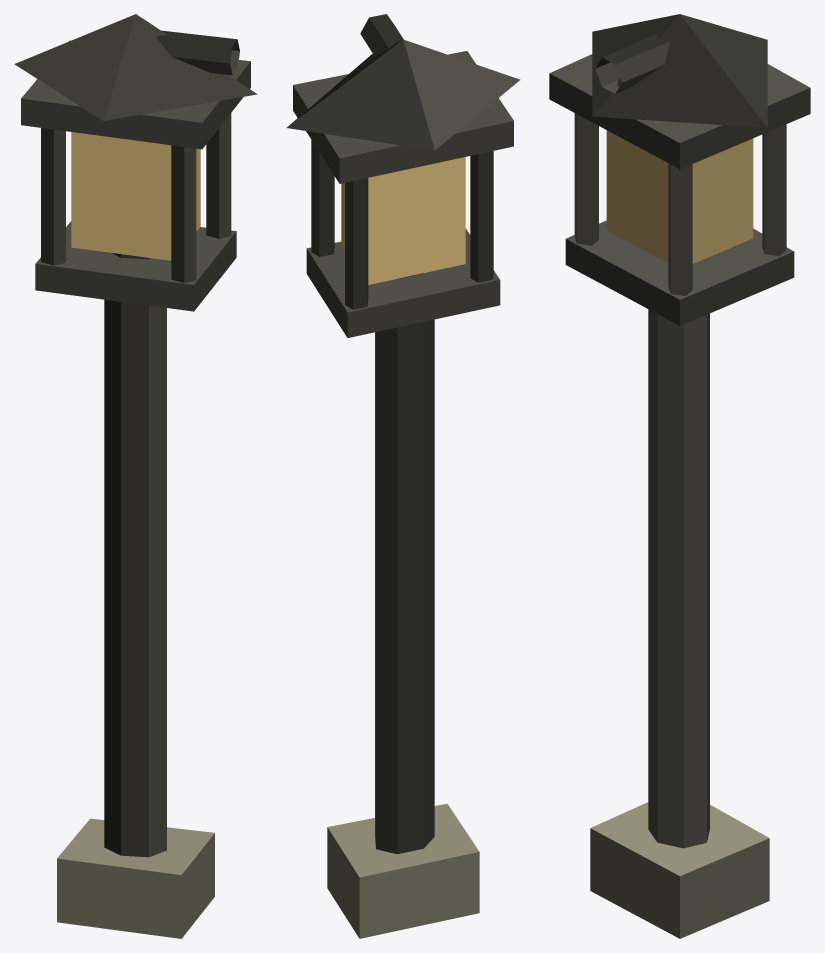
3 views of the same model, side by side, from view 1: azimuth 30°, elevation 25°; view 2: azimuth 150°, elevation 25°; view 3: azimuth 270°, elevation 25° (orthographic). The views are drawn at different scales.
Visible parts, largest first — view 1: dc2c024b5a84f2308b48a30a74c9cf8e7112c4238d621d6f0ad9f75ef77e; view 2: dc2c024b5a84f2308b48a30a74c9cf8e7112c4238d621d6f0ad9f75ef77e; view 3: dc2c024b5a84f2308b48a30a74c9cf8e7112c4238d621d6f0ad9f75ef77e.
Boxes of the visible parts, x1=… form: dc2c024b5a84f2308b48a30a74c9cf8e7112c4238d621d6f0ad9f75ef77e: x1=14, y1=14, x2=257, y2=938; dc2c024b5a84f2308b48a30a74c9cf8e7112c4238d621d6f0ad9f75ef77e: x1=287, y1=14, x2=520, y2=938; dc2c024b5a84f2308b48a30a74c9cf8e7112c4238d621d6f0ad9f75ef77e: x1=549, y1=14, x2=810, y2=938.
Size of the model in its own units: 0.9051 by 3.39 by 0.9051.
Materials: 2 (1 with a texture image).
